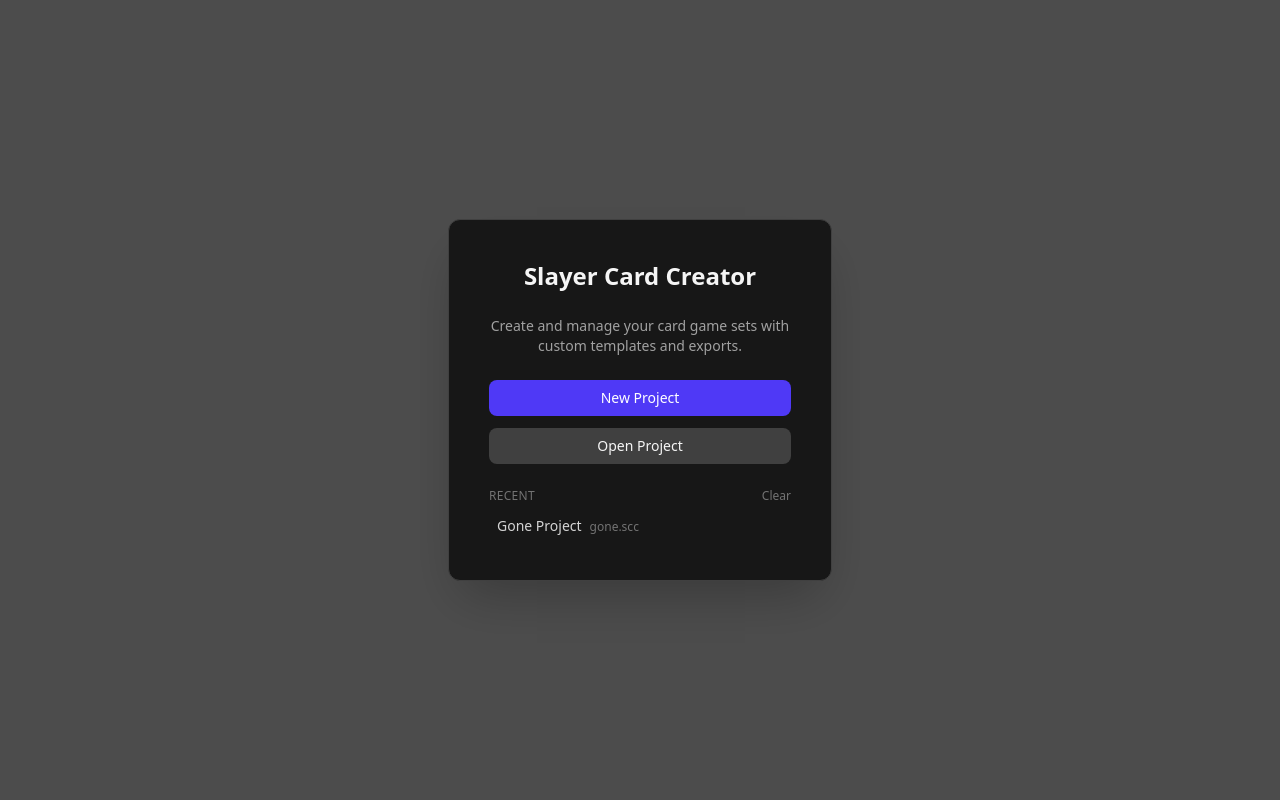
Test: WelcomeModal › shows error message when a recent project file cannot be loaded
The image size is (1280, 800).
Click the button "Gone Project" at (640, 526), box [489,512,791,540]
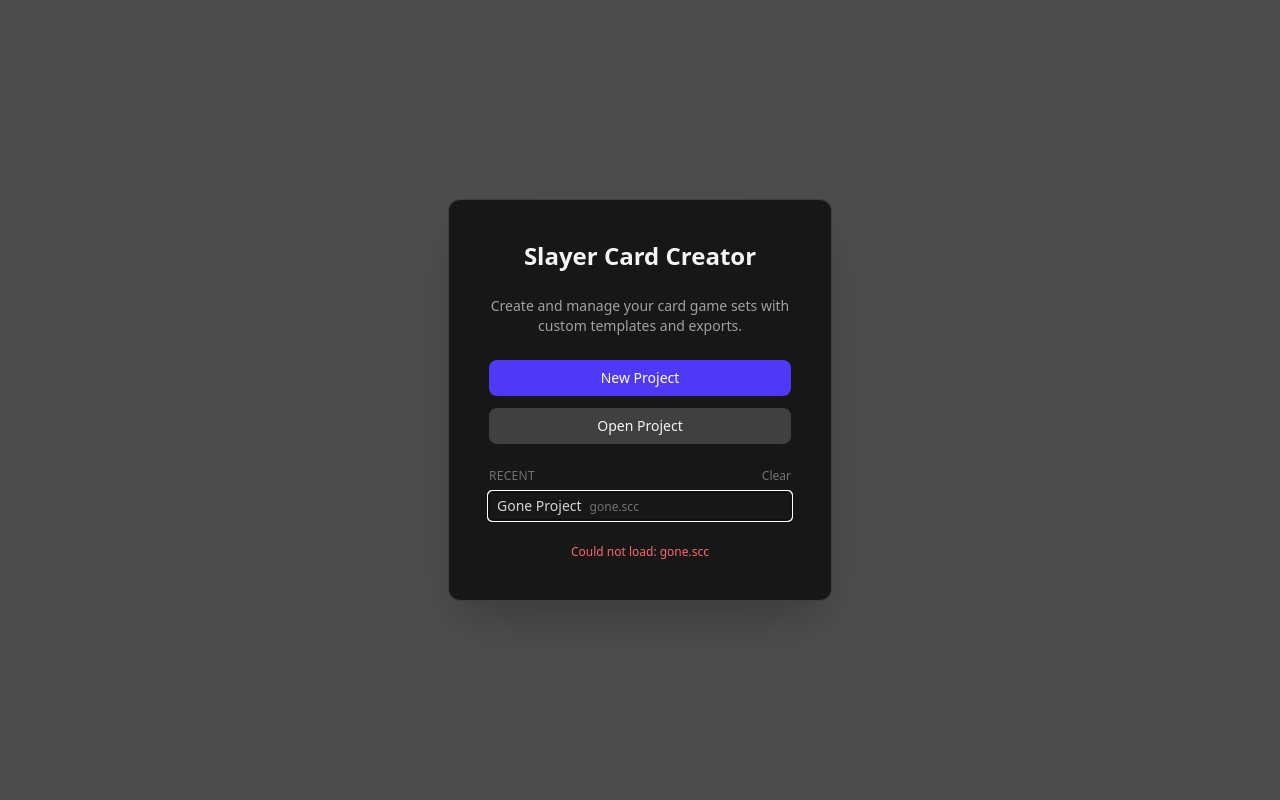
Check: the text "Could not load: gone.scc" is shown, box [571,544,709,560]
